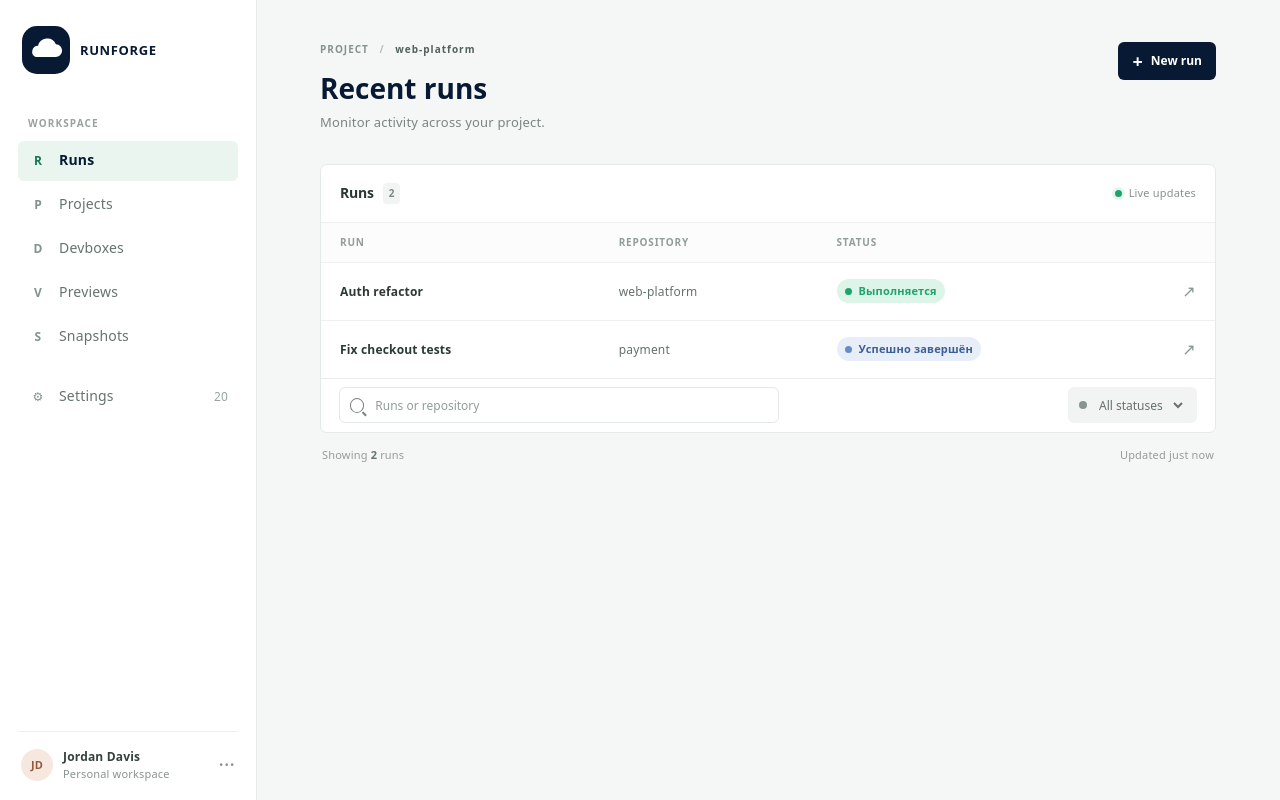
Test: App runs › открывает модальное окно деталей запуска
The image size is (1280, 800).
Expected: the text "Auth refactor" is shown, [321,262,600,320]
Click the button named "Open Auth refactor" at (1189, 291), box [1175,277,1203,305]
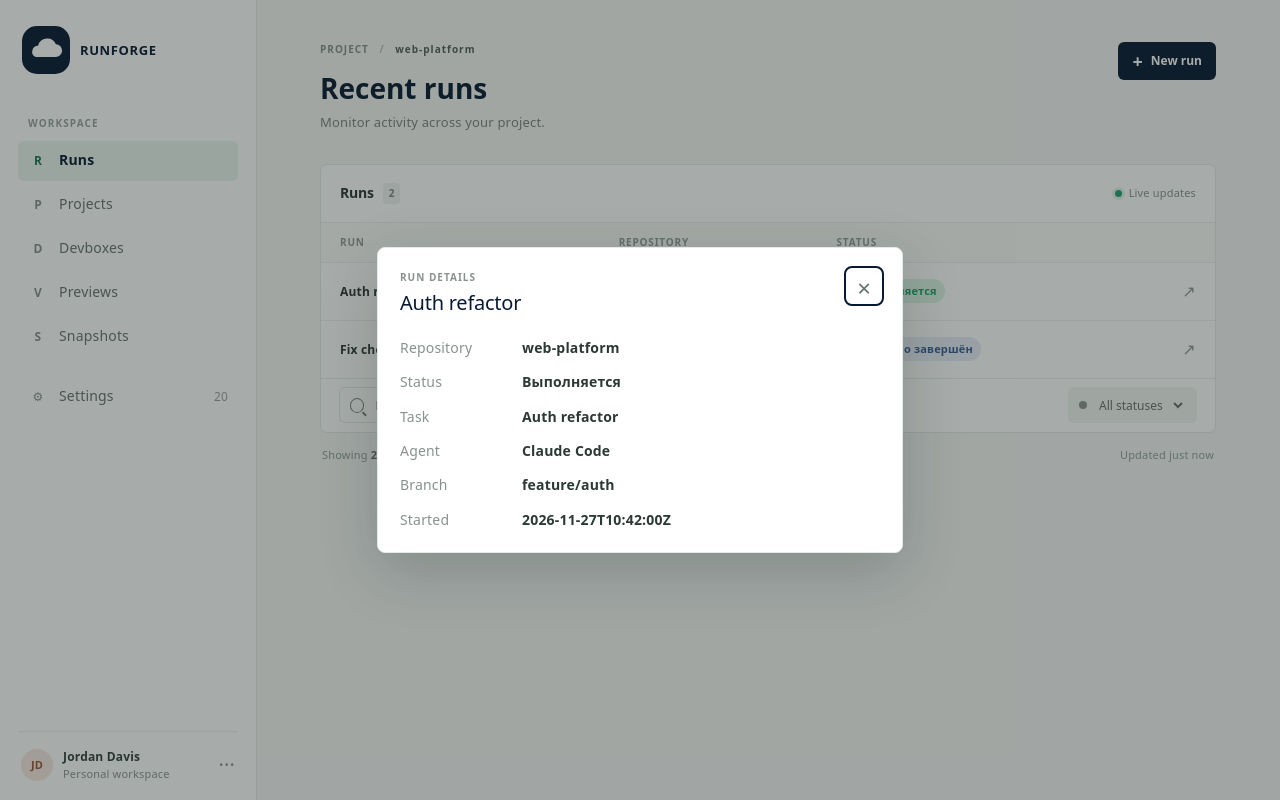
Expected: the dialog "Auth refactor" is shown, [377,247,903,553]
Expected: the text "Claude Code" is shown, [522,441,610,460]
Expected: the text "feature/auth" is shown, [522,475,615,494]
